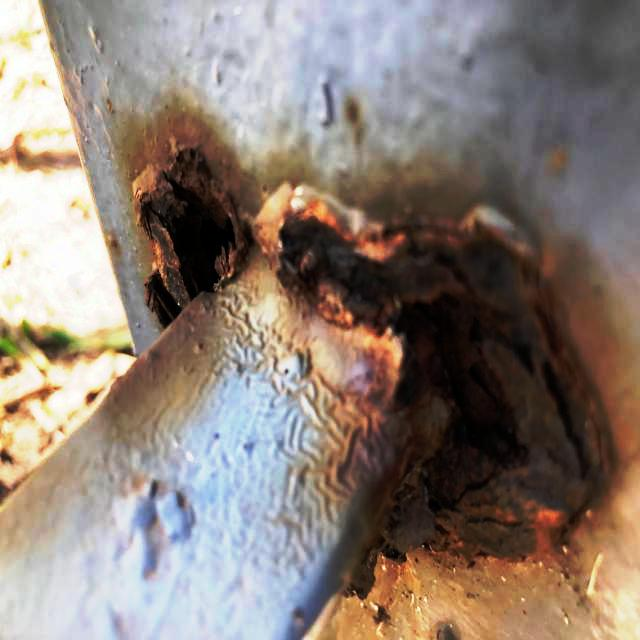Corrosion: (135, 127, 617, 595)
